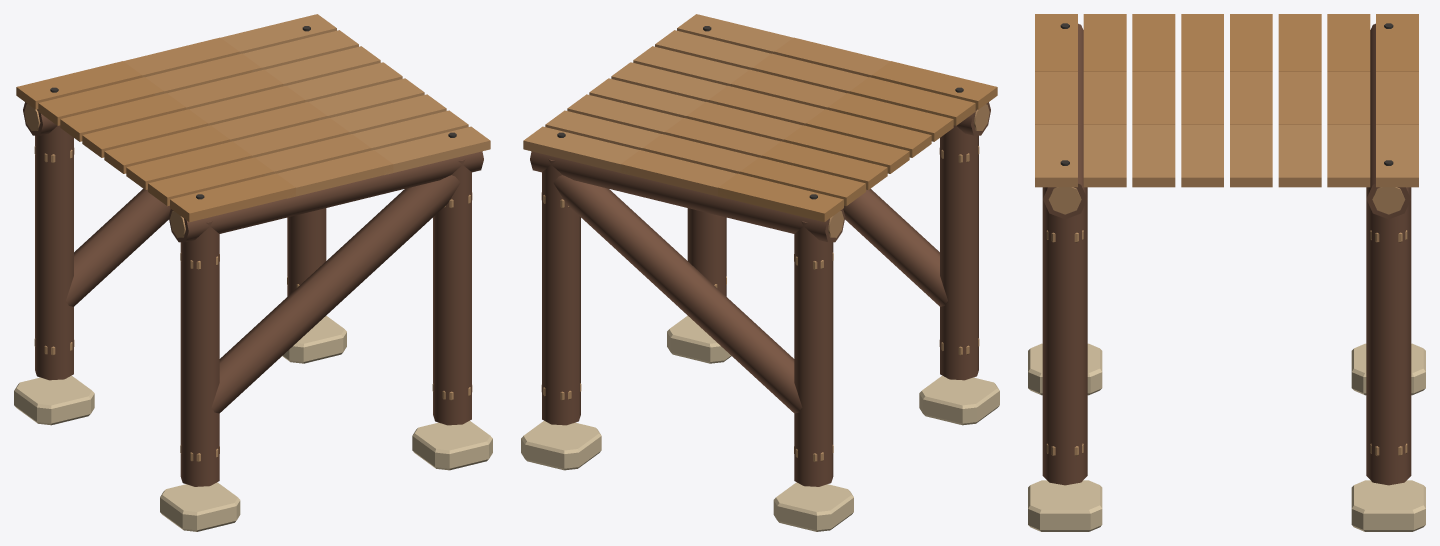
Rendered from platform_2m.glb.
The picture shows the model from 3 angles, left to right: view 1: azimuth 30°, elevation 25°; view 2: azimuth 150°, elevation 25°; view 3: azimuth 270°, elevation 25°; orthographic projection. The views are drawn at different scales.
Visible parts, largest first — view 1: CrossBrace2, Post2, Post, Post4, FloorPlank_07, FloorPlank_04, FloorPlank_01, FloorPlank_03, FloorPlank_02, FloorPlank_06, FloorPlank_05, FloorPlank_00 (+8 smaller); view 2: CrossBrace, Post, Post2, Post3, FloorPlank_00, FloorPlank_03, FloorPlank_04, FloorPlank_06, FloorPlank_05, FloorPlank_01, FloorPlank_02, FloorPlank_07 (+8 smaller); view 3: Post3, Post4, FloorPlank_01, FloorPlank_02, FloorPlank_05, FloorPlank_06, FloorPlank_03, FloorPlank_04, FloorPlank_00, FloorPlank_07, StoneFoot3, StoneFoot4 (+4 smaller).
Boxes of the visible parts, x1,y1,x2,y2 form: CrossBrace2: (211,175,460,413); Post2: (180,221,219,486); Post: (35,125,73,380); Post4: (433,159,471,425); FloorPlank_07: (170,126,490,222); FloorPlank_04: (104,78,424,173); FloorPlank_01: (38,30,358,125); FloorPlank_03: (82,62,402,157); FloorPlank_02: (60,46,380,141); FloorPlank_06: (148,110,468,206); FloorPlank_05: (126,94,446,189); FloorPlank_00: (16,14,336,109); CrossBrace: (553,175,802,413); Post: (794,221,833,486); Post2: (940,125,978,380); Post3: (542,159,580,425); FloorPlank_00: (523,126,843,222); FloorPlank_03: (589,78,909,173); FloorPlank_04: (611,62,931,157); FloorPlank_06: (655,30,975,125); FloorPlank_05: (633,46,953,141); FloorPlank_01: (545,110,865,206); FloorPlank_02: (567,94,887,189); FloorPlank_07: (677,14,997,109); Post3: (1366,199,1411,485); Post4: (1042,199,1087,485); FloorPlank_01: (1327,14,1370,187); FloorPlank_02: (1278,14,1321,187); FloorPlank_05: (1132,14,1175,187); FloorPlank_06: (1083,14,1126,187); FloorPlank_03: (1230,14,1272,187); FloorPlank_04: (1181,14,1223,187); FloorPlank_00: (1376,14,1418,187); FloorPlank_07: (1035,14,1077,187); StoneFoot3: (1351,480,1425,531); StoneFoot4: (1028,480,1102,531).
Size of the model in its own units: 2.04 by 2.01 by 2.04.
